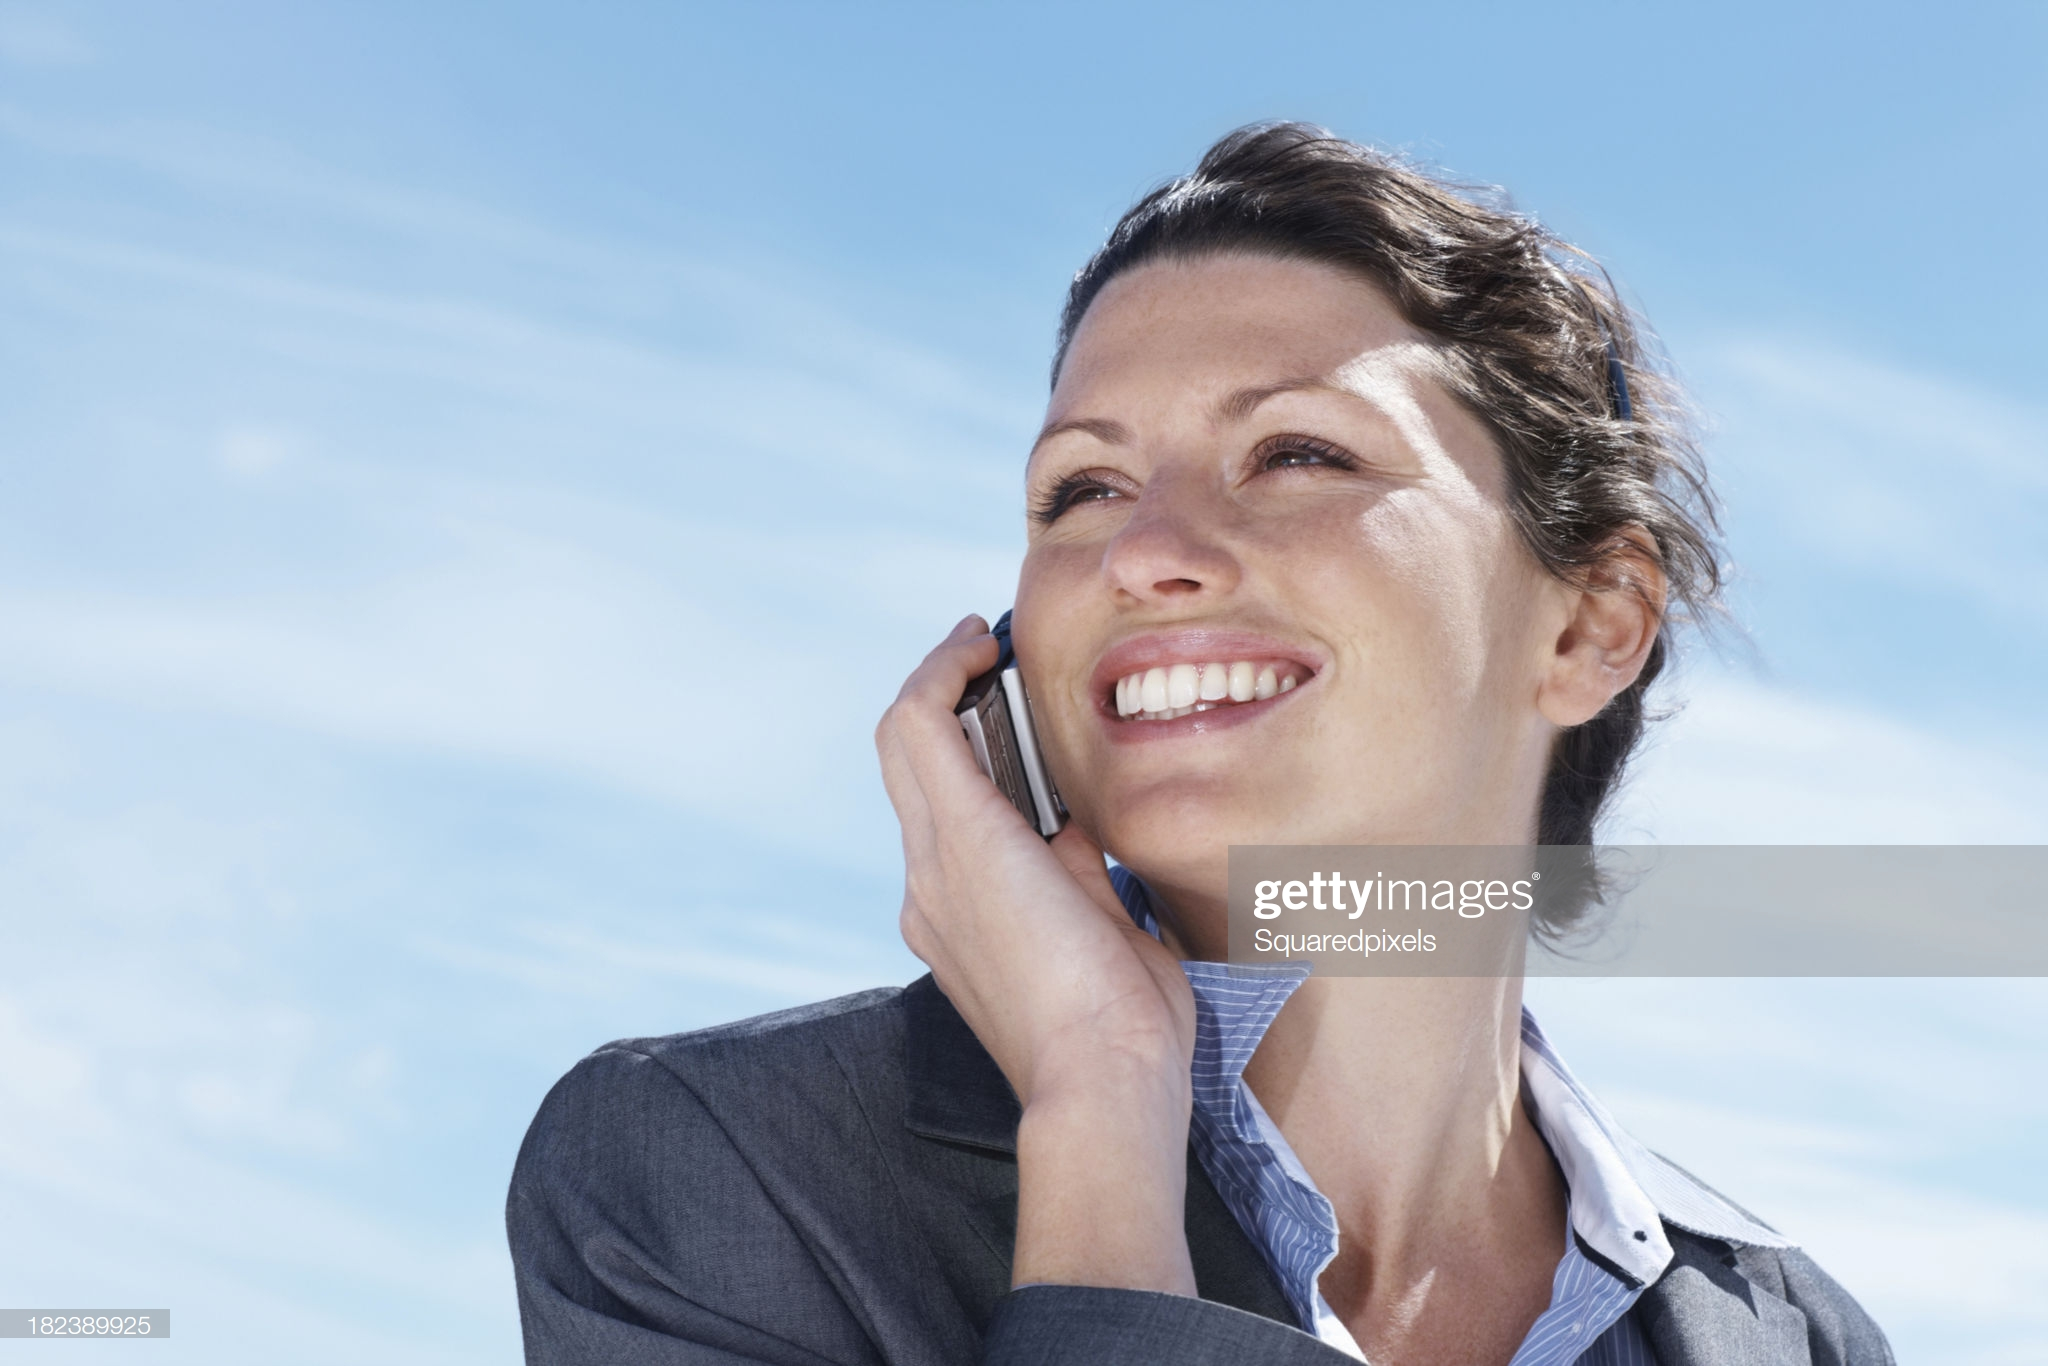phone: (878, 633, 1140, 1000)
talk: (850, 351, 1522, 1101)
